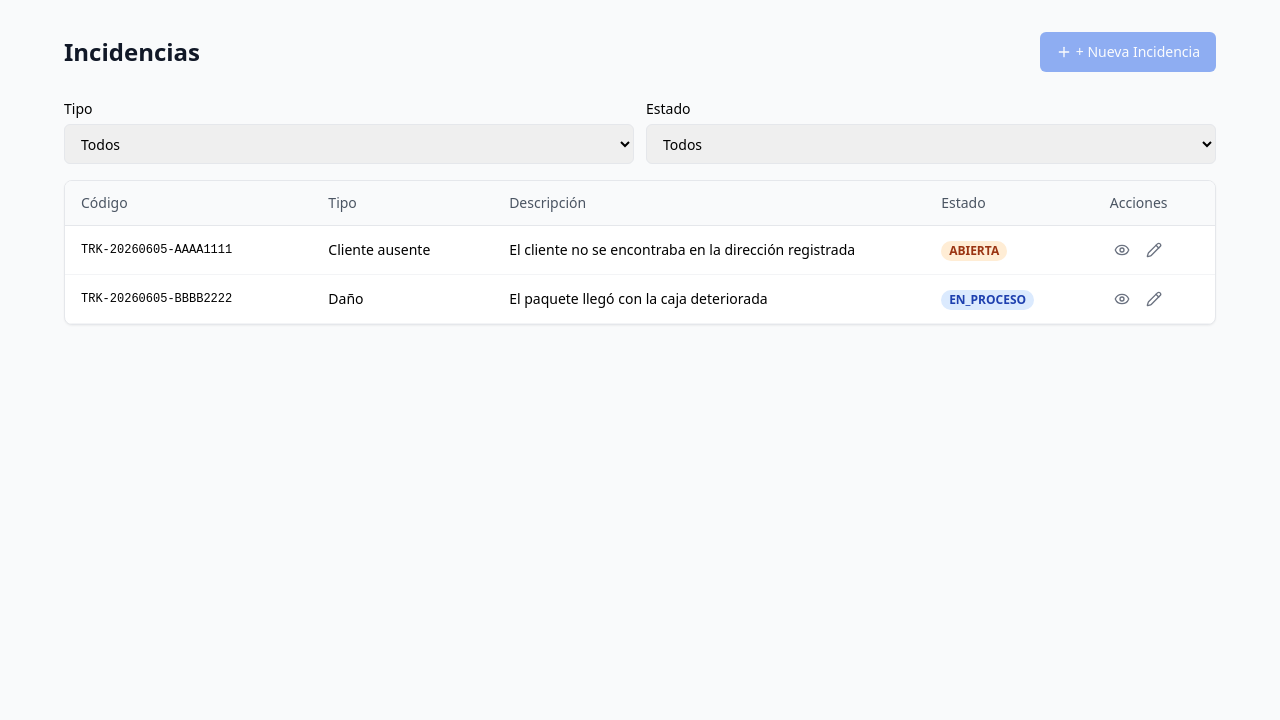
Test case: R28 - debe permitir cambiar el estado de una incidencia desde la acción "editar" › abre el modal de cambio de estado, envía la mutación y muestra confirmación
The width and height of the screenshot is (1280, 720).
Click the button named "editar incidencia TRK-20260605-AAAA1111": {"x": 1154, "y": 250} top-left (1142, 238), bottom-right (1166, 262)
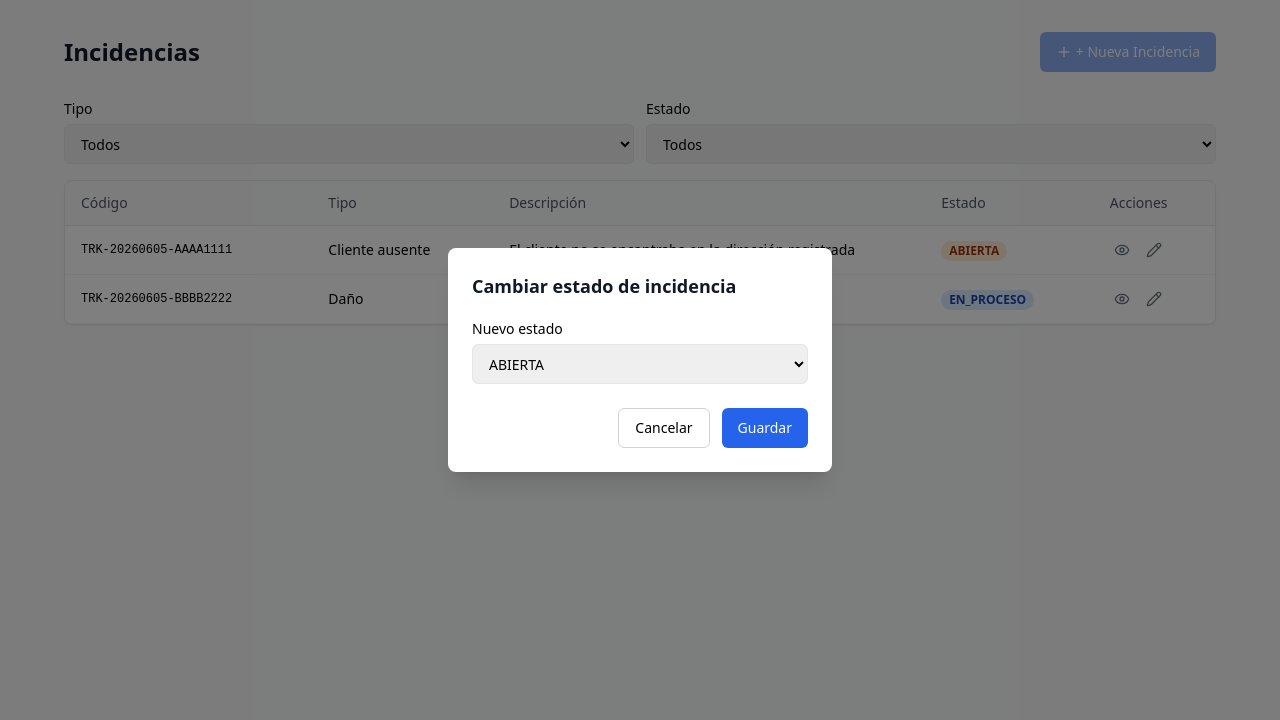
Expected: the dialog "Cambiar estado de incidencia Nuevo estado Cancelar Guardar" is shown
Select "EN_PROCESO" in the dropdown labelled "Nuevo estado": {"x": 640, "y": 364} top-left (472, 344), bottom-right (808, 384)
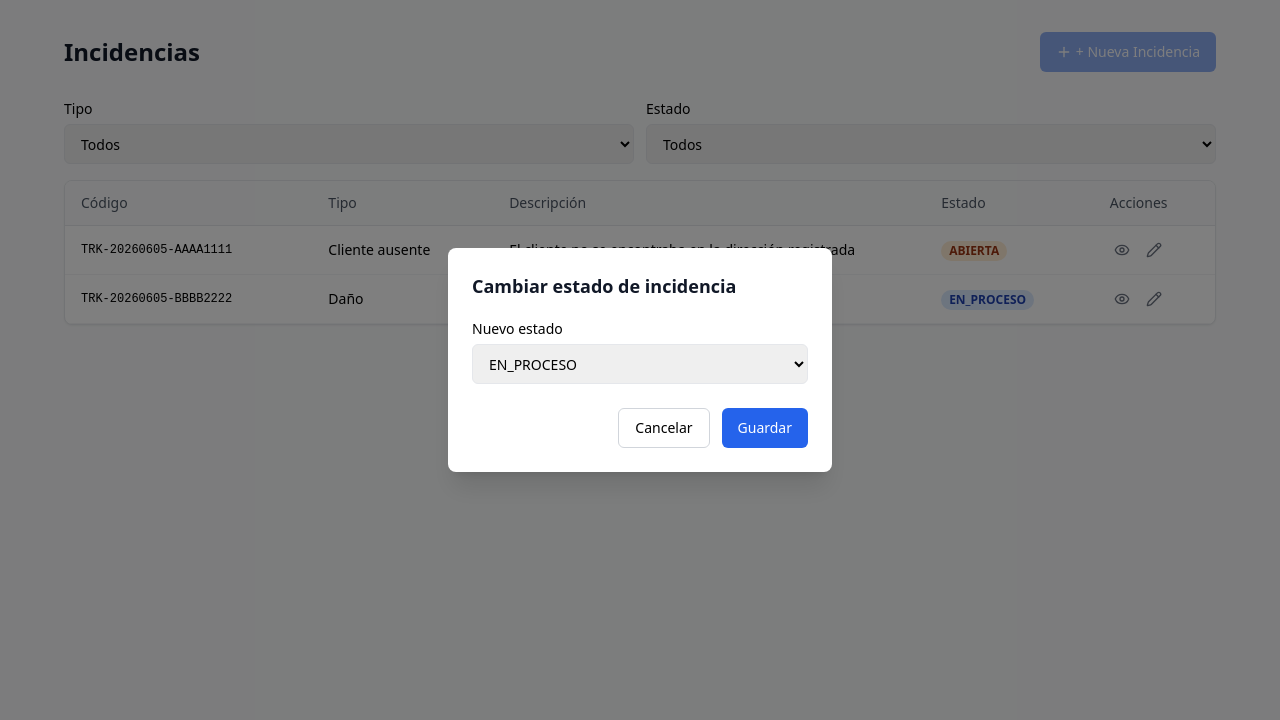
Click the button "Guardar": {"x": 765, "y": 428} top-left (722, 408), bottom-right (808, 448)
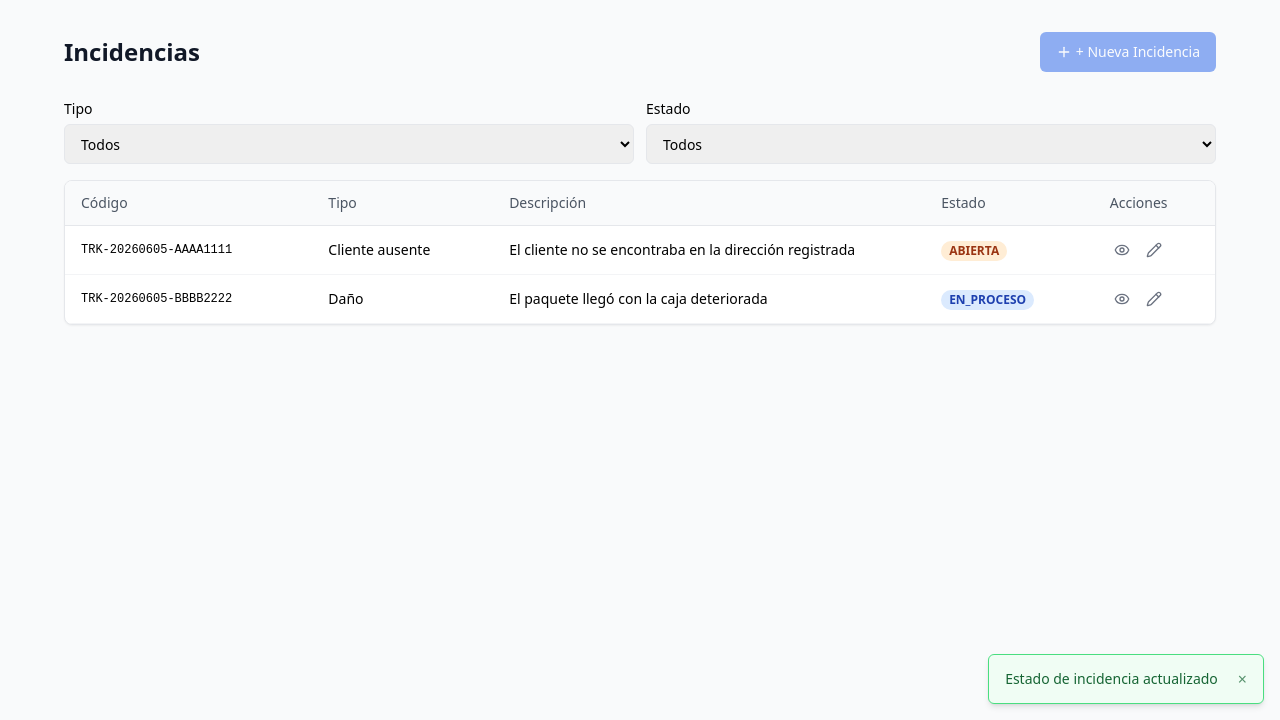
Expected: the message shows "Estado de incidencia actualizado", top-left (1005, 669), bottom-right (1218, 688)
